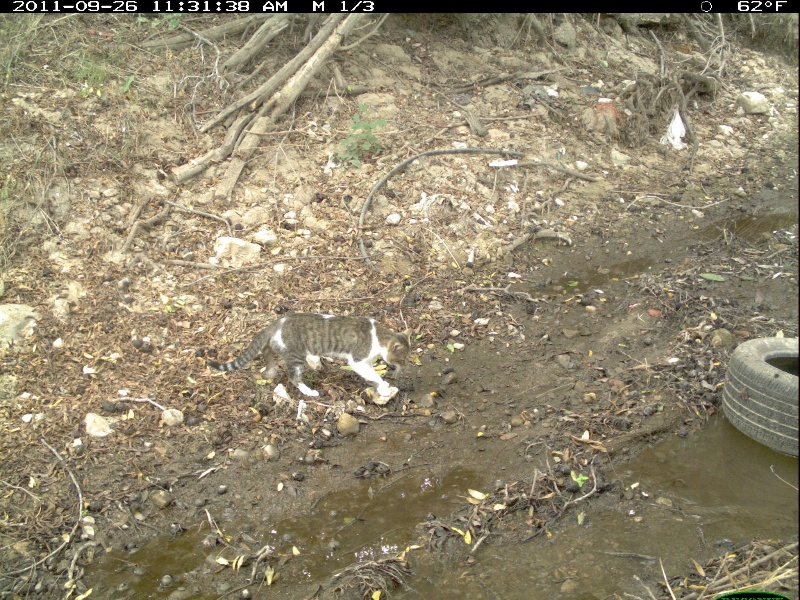cat: (204, 315, 415, 408)
